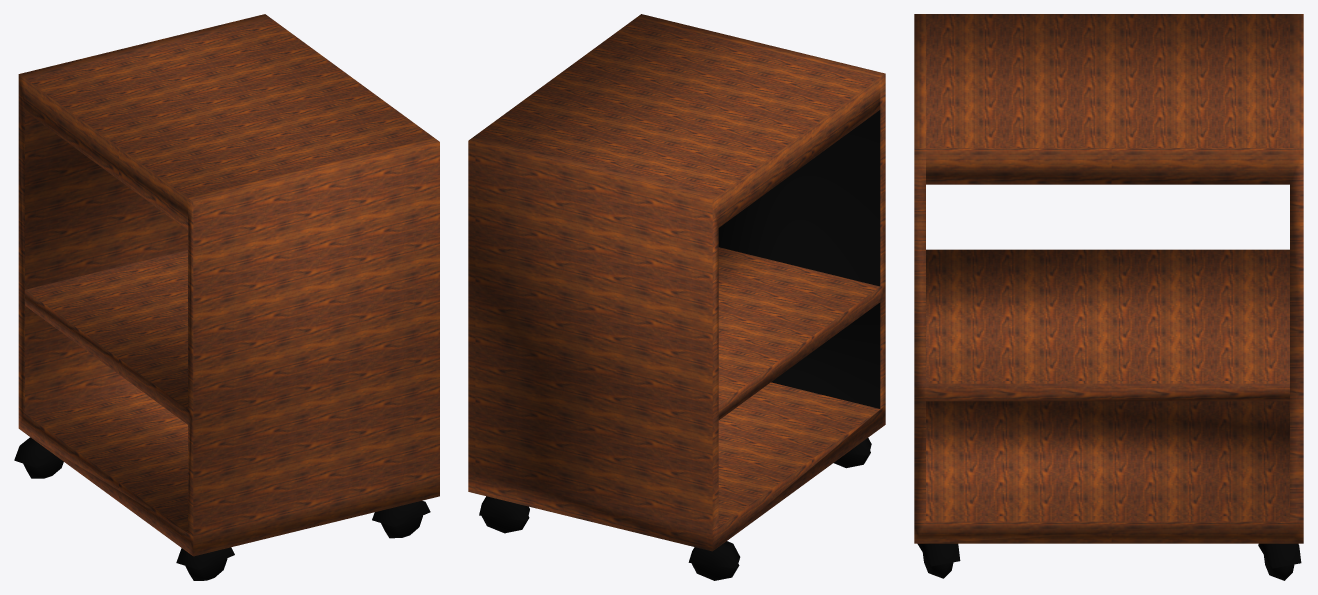
File: tana.fbx
3 views of the same model, side by side, from view 1: azimuth 30°, elevation 25°; view 2: azimuth 150°, elevation 25°; view 3: azimuth 270°, elevation 25° (orthographic). The views are drawn at different scales.
Visible parts, largest first — view 1: 棚; view 2: 棚; view 3: 棚.
Part boxes in pixels (x1,y1,x2,y2): 棚: (14,14,439,580); 棚: (468,14,885,580); 棚: (914,14,1303,580).
Size of the model in its own units: 26.37 by 38.41 by 30.51.
1 material, 1 textured.
